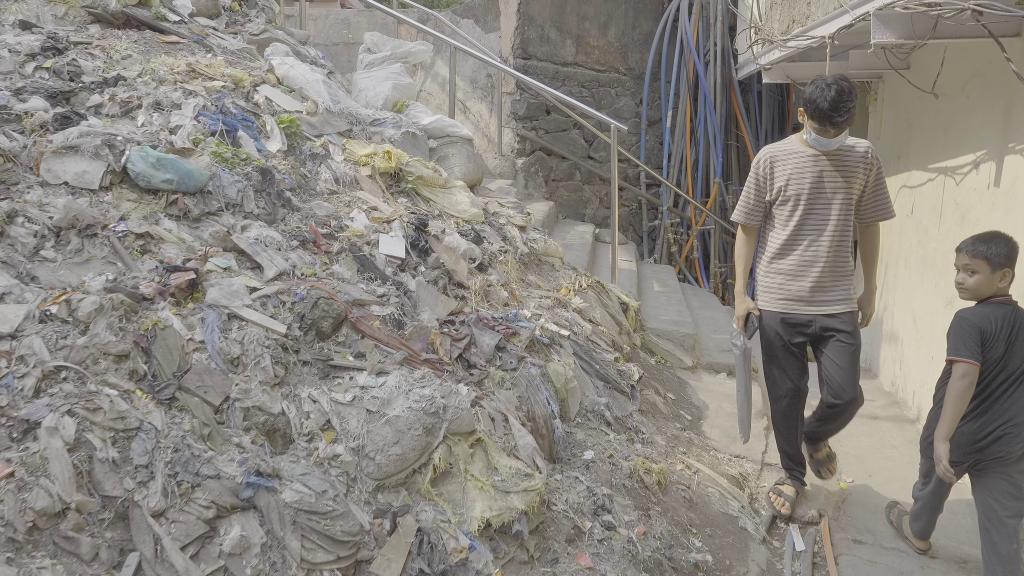garbage: (299, 151, 456, 408), (361, 192, 535, 386), (115, 138, 216, 195)
